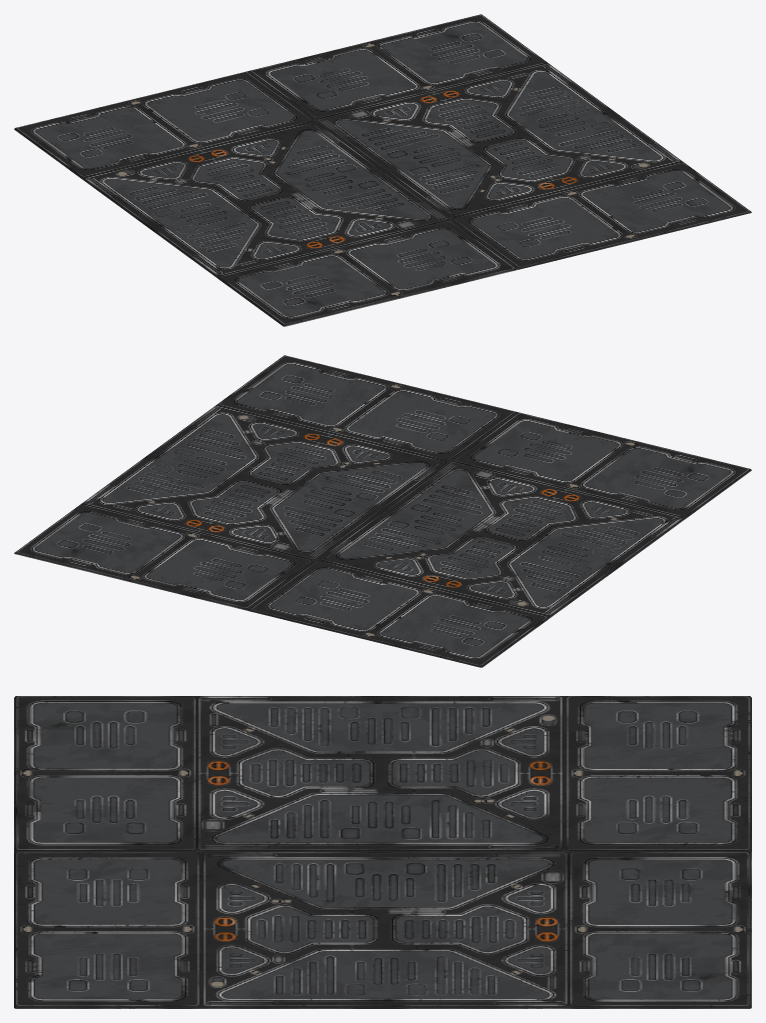
File: H2_floor_6A.fbx
3 renders of one model, top to bottom at view 1: azimuth 30°, elevation 25°; view 2: azimuth 150°, elevation 25°; view 3: azimuth 270°, elevation 25°, orthographic. The views are drawn at different scales.
Visible parts, largest first — view 1: H2_floor_6A; view 2: H2_floor_6A; view 3: H2_floor_6A.
Boxes of the visible parts, x1,y1,x2,y2 form: H2_floor_6A: [14, 14, 751, 326]; H2_floor_6A: [14, 355, 751, 667]; H2_floor_6A: [14, 696, 751, 1008].
Bounding box in the file's own units: 1000 × 2.51 × 1000.
